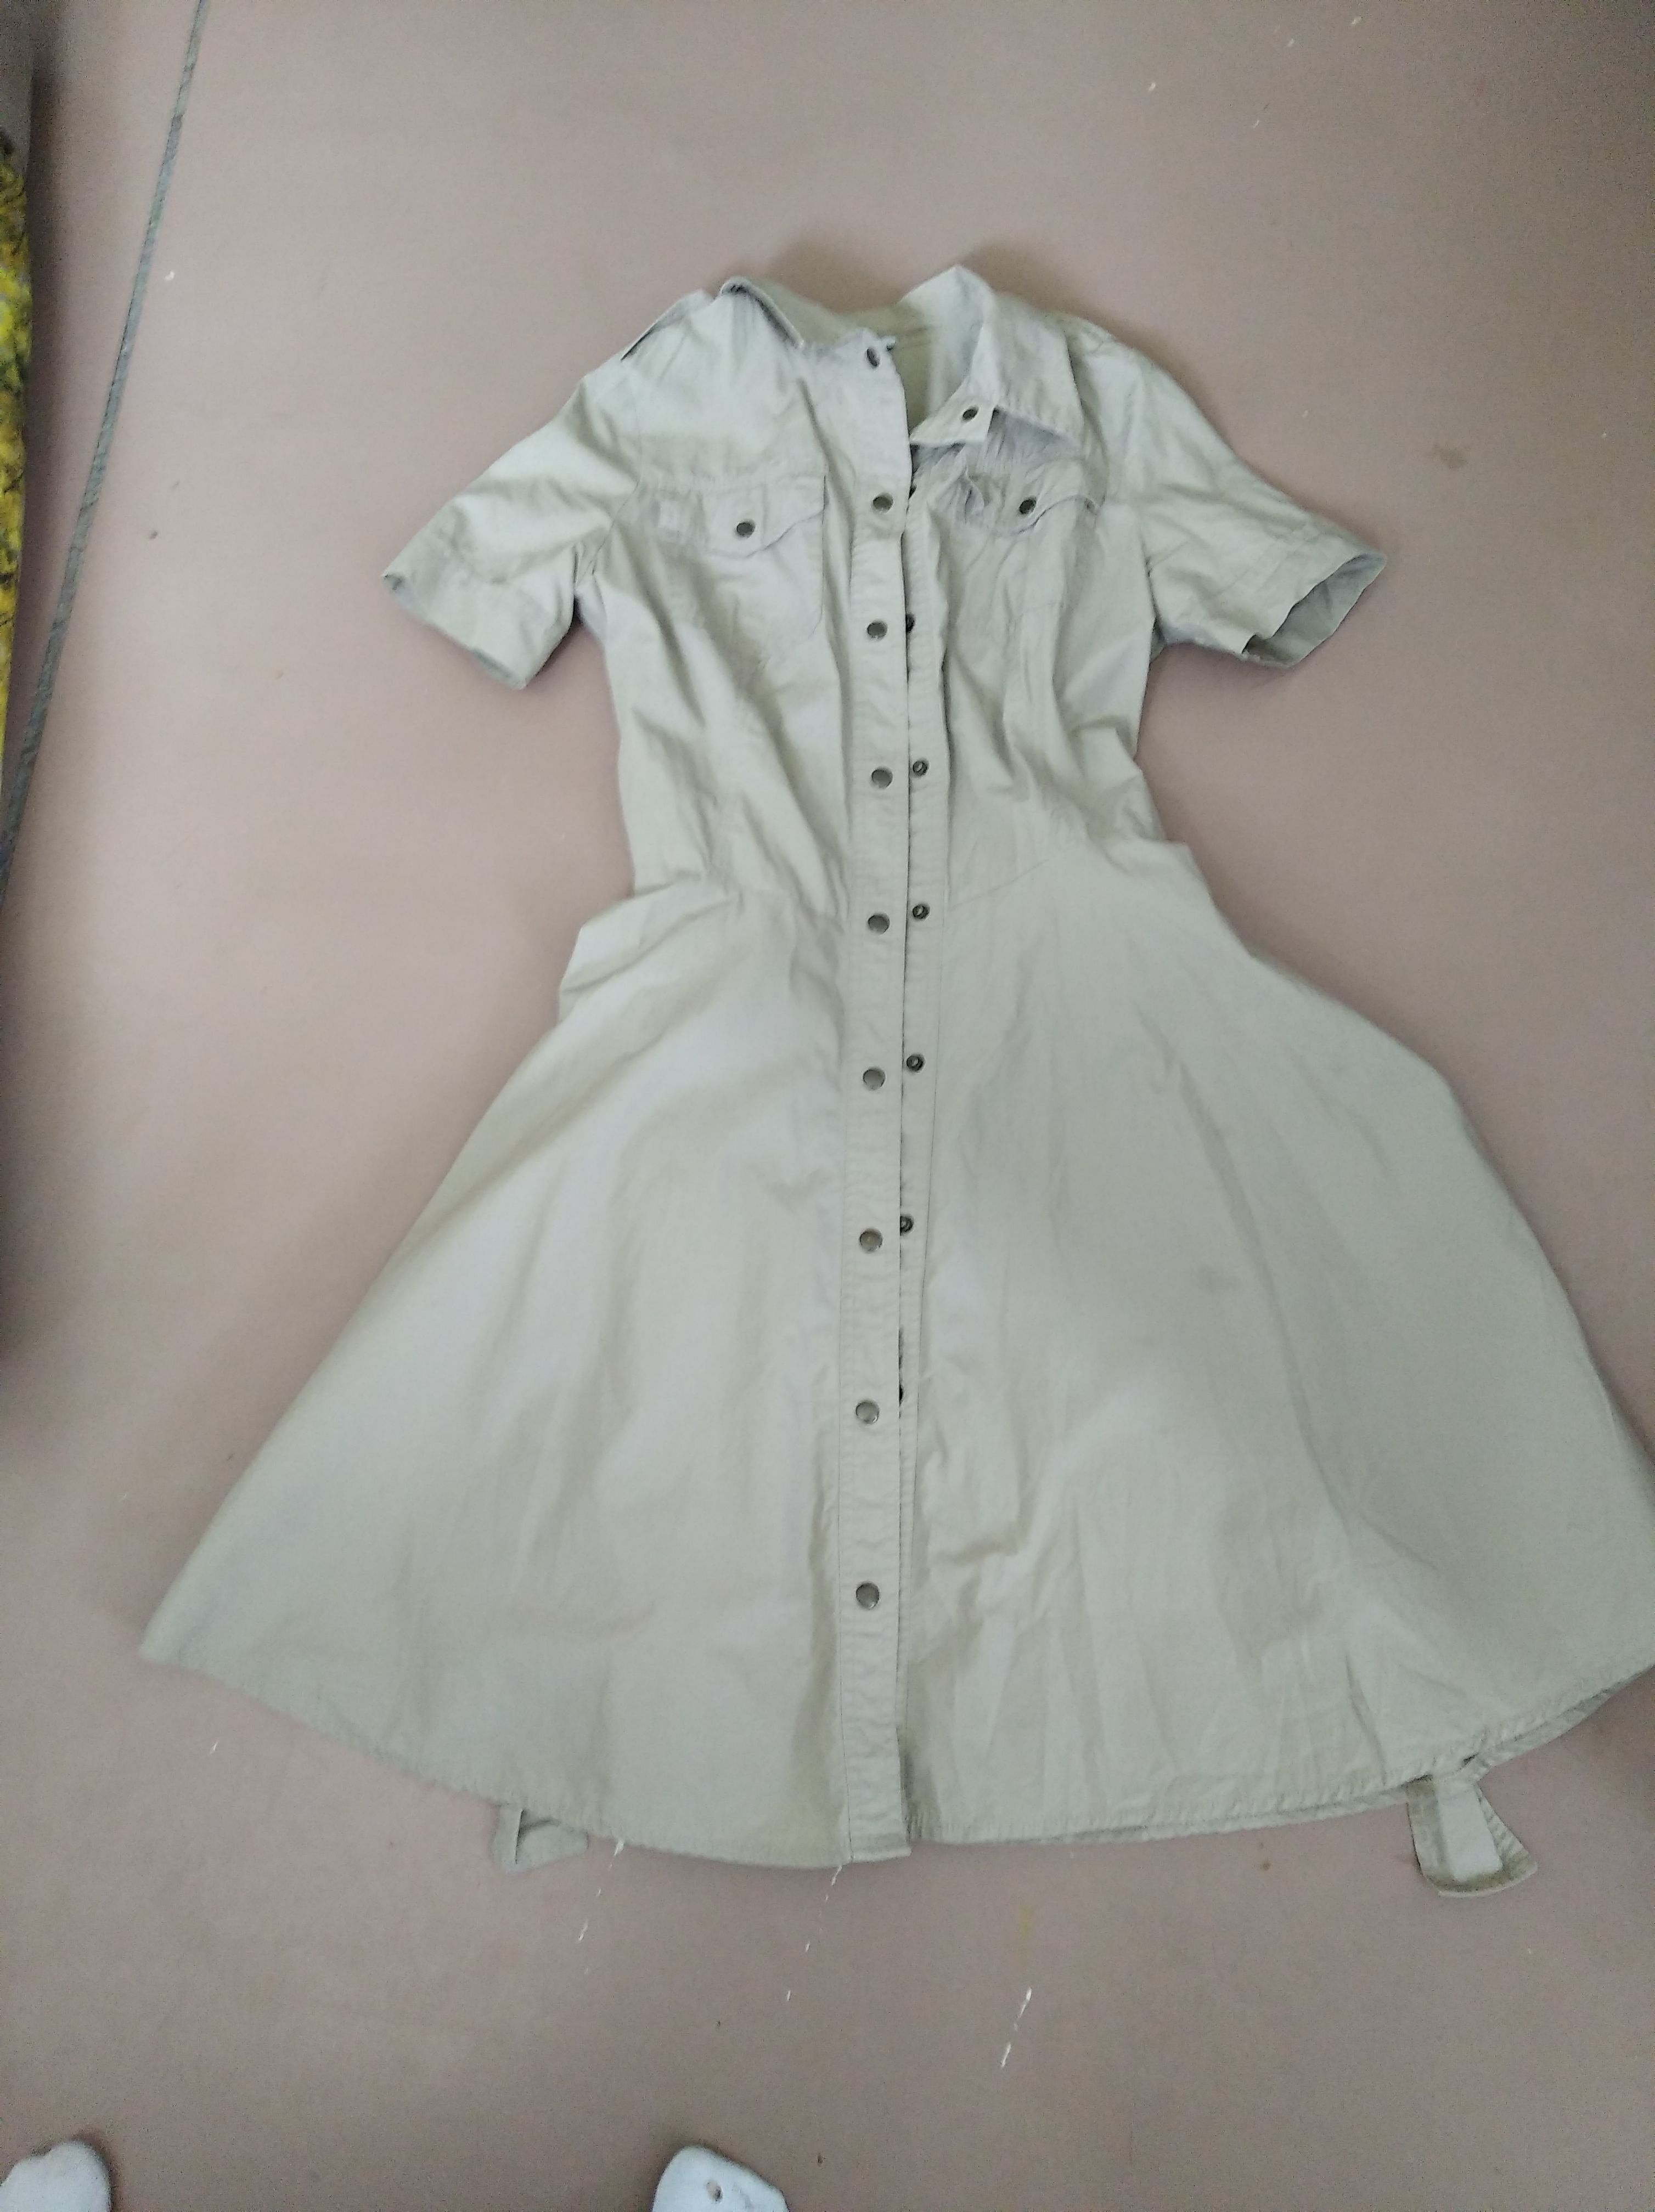clothes: (127, 233, 1655, 1847)
